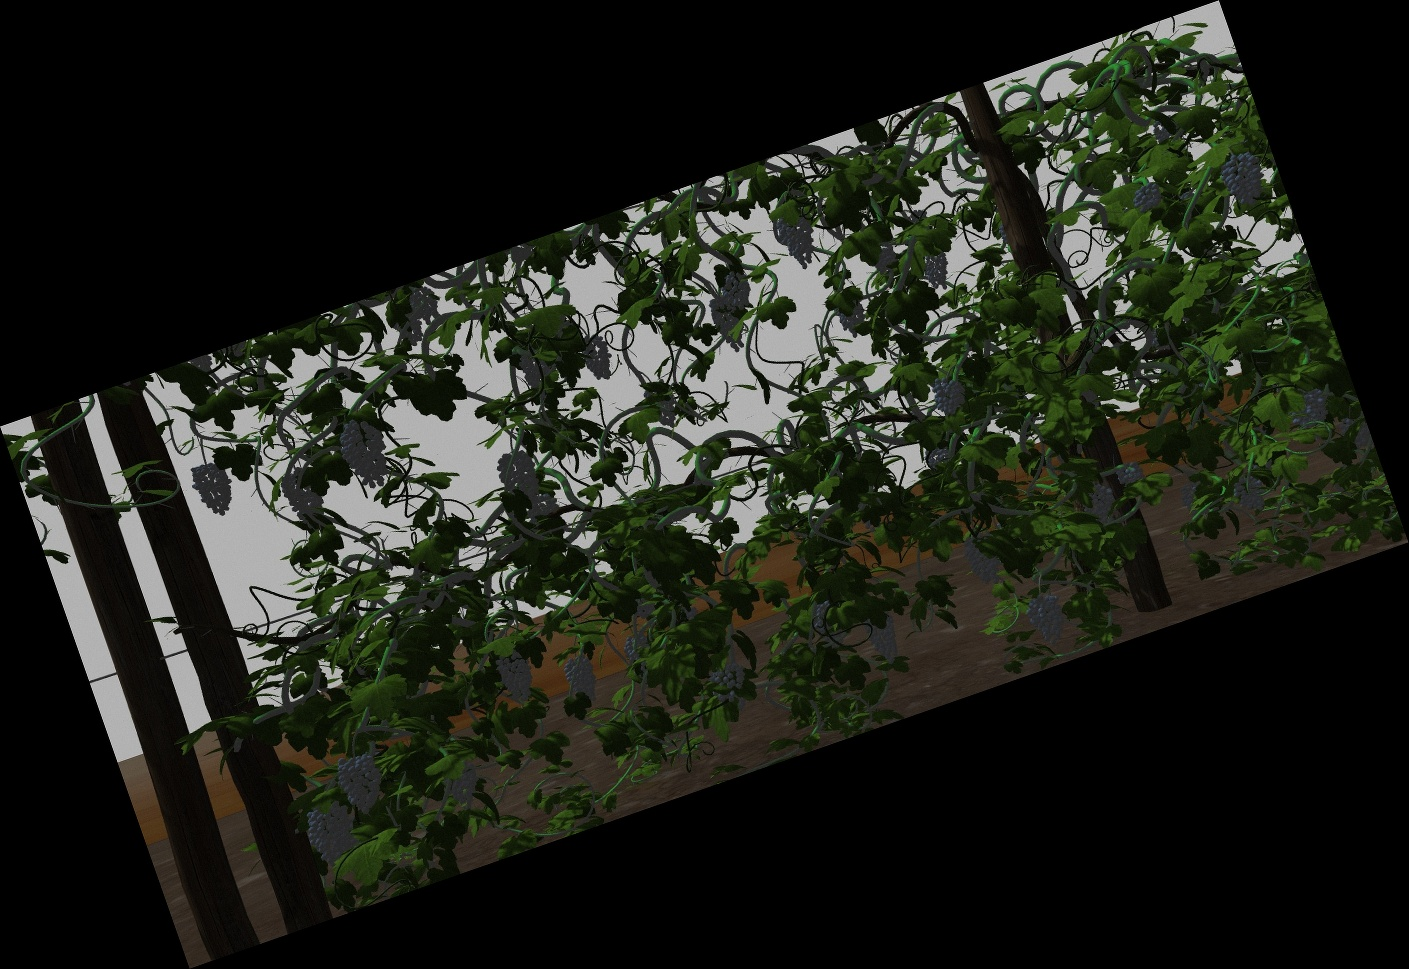grape: (343, 418, 387, 488), (308, 803, 357, 863), (340, 751, 383, 813), (781, 205, 816, 267), (502, 450, 539, 510), (195, 463, 233, 517), (1223, 154, 1264, 205), (499, 652, 534, 708), (284, 469, 321, 519), (1030, 593, 1067, 644), (967, 533, 1001, 587), (715, 296, 744, 351), (566, 655, 599, 705), (1291, 390, 1329, 431), (869, 614, 899, 662), (934, 375, 966, 415), (585, 335, 612, 381), (1234, 473, 1267, 513), (712, 666, 748, 700), (1084, 483, 1115, 523), (449, 763, 479, 804), (392, 308, 423, 346), (837, 298, 866, 337), (522, 352, 552, 388), (924, 249, 950, 289), (726, 272, 751, 308), (414, 289, 439, 323), (1134, 184, 1163, 212), (1116, 461, 1143, 483), (928, 446, 950, 466)
